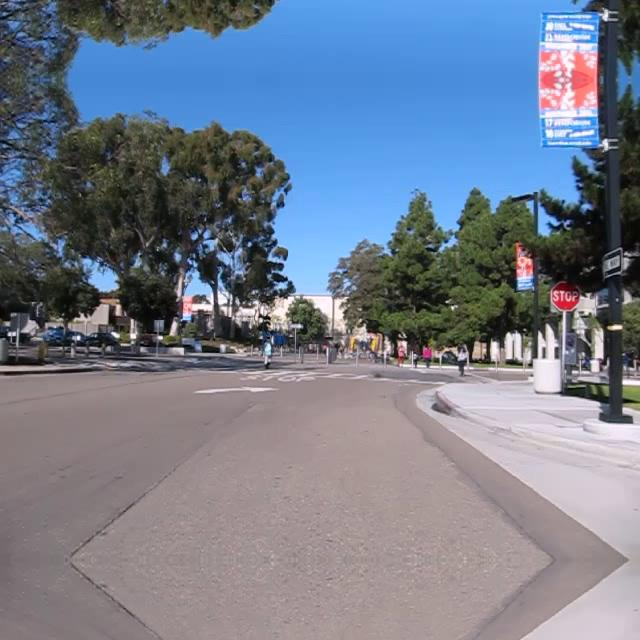stop: (549, 280, 581, 310)
